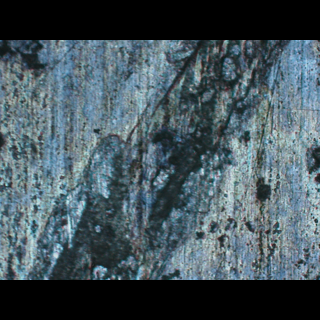d: (16, 39, 299, 279)
